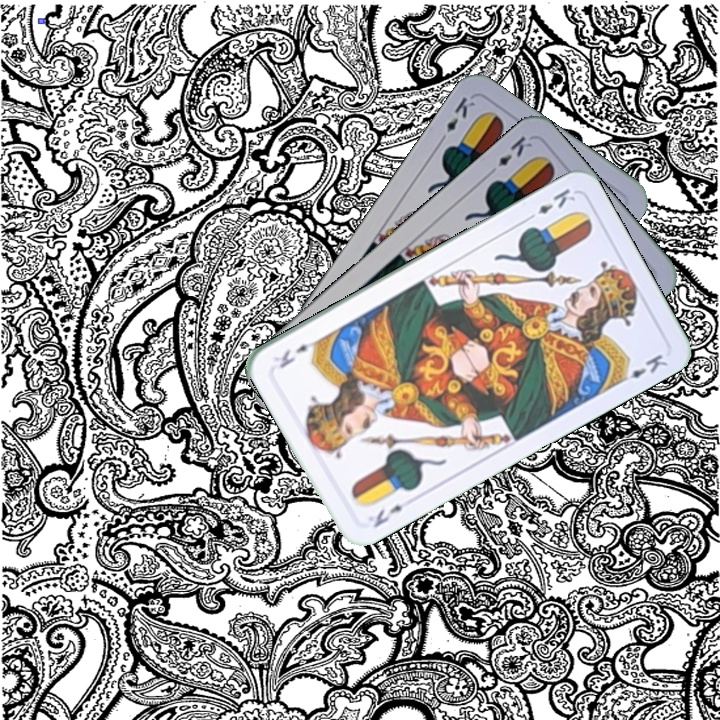EK: (483, 132, 535, 179), (434, 92, 478, 146), (522, 184, 578, 224), (369, 496, 416, 531)
